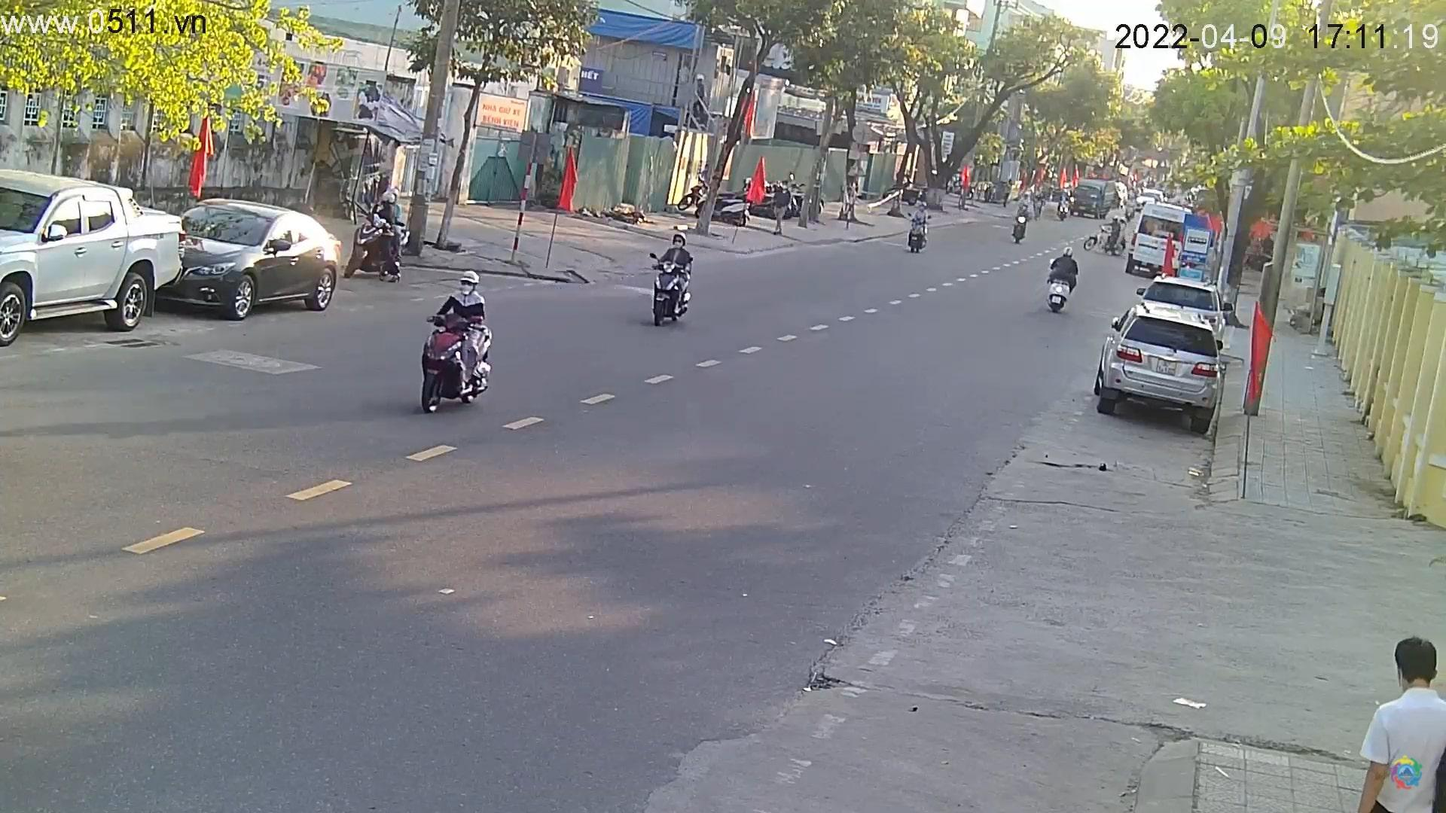car: (2, 163, 186, 354), (165, 199, 349, 322)
motorbike: (418, 321, 494, 412), (646, 242, 700, 333)
